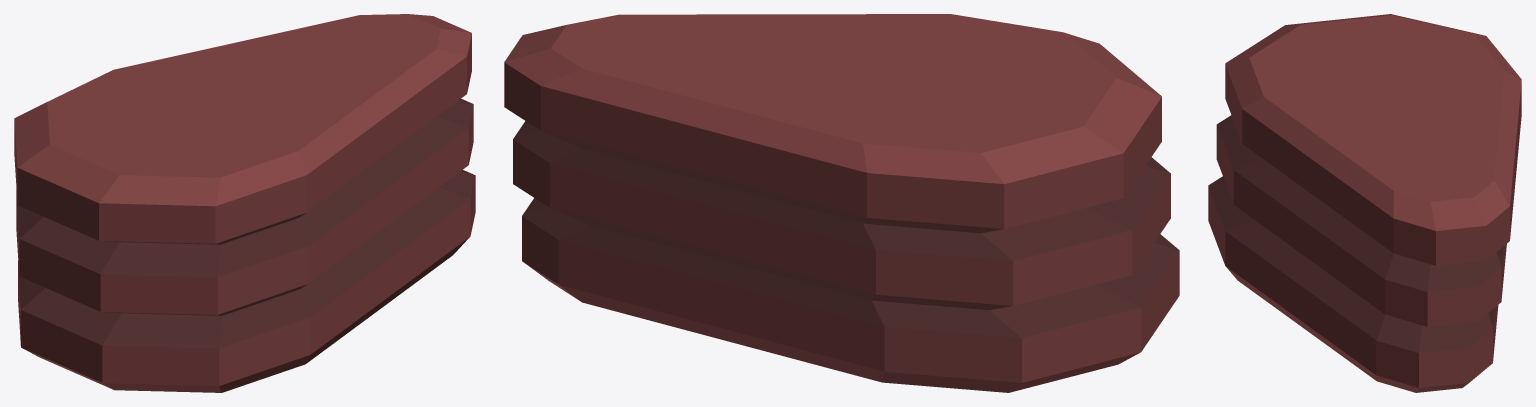
Rendered from item_meat_big_b.obj.
3 views of the same model, side by side, from view 1: azimuth 30°, elevation 25°; view 2: azimuth 150°, elevation 25°; view 3: azimuth 270°, elevation 25° (orthographic). The views are drawn at different scales.
Size of the model in its own units: 0.8064 by 0.3201 by 0.4864.
